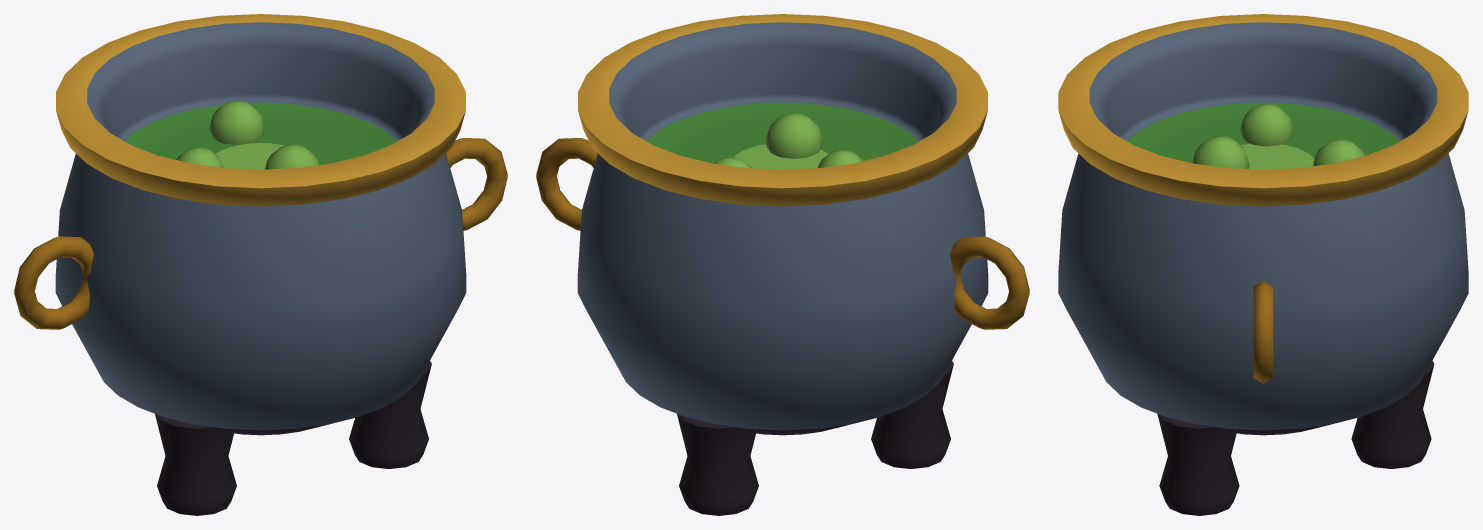
File: Cauldron_05.glb
3 views of the same model, side by side, from view 1: azimuth 30°, elevation 25°; view 2: azimuth 150°, elevation 25°; view 3: azimuth 270°, elevation 25° (orthographic).
Visible parts, largest first — view 1: Cauldron_05; view 2: Cauldron_05; view 3: Cauldron_05.
Boxes of the visible parts, x1,y1,x2,y2 form: Cauldron_05: (14,14,507,515); Cauldron_05: (536,14,1029,515); Cauldron_05: (1058,14,1468,515).
Size of the model in its own units: 3.97 by 2.76 by 2.86.
